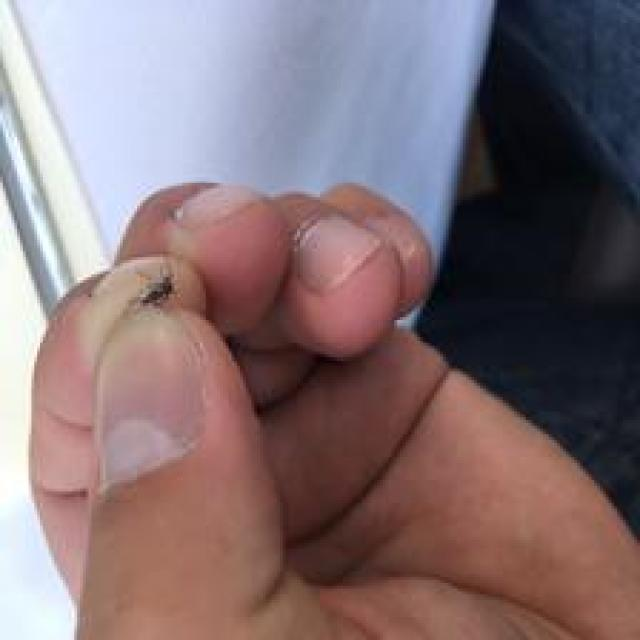Aedes albopictus: (133, 272, 176, 308)
